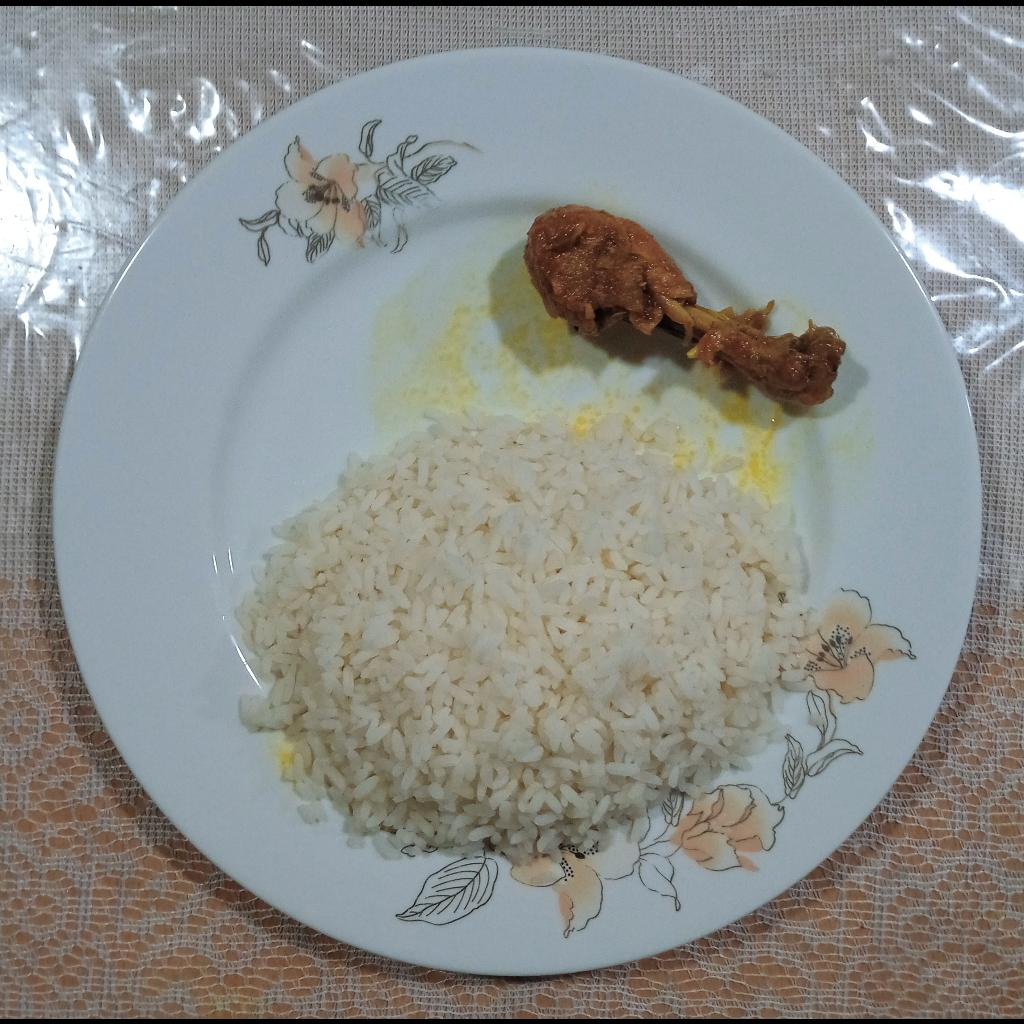chicken: (524, 205, 849, 404)
rice: (238, 401, 817, 866)
